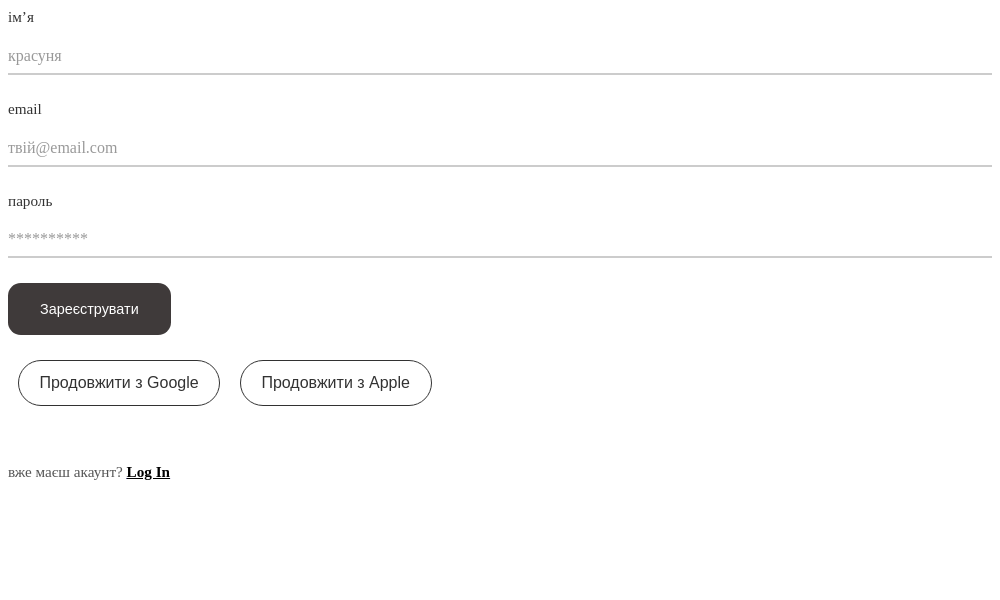
Test: <AuthForm/> › Має показувати помилки валідації при спробі відправки порожньої форми
# Натискаємо кнопку відправки без заповнення полів
Click the button "Зареєструвати": (90, 309) [8,283,171,334]
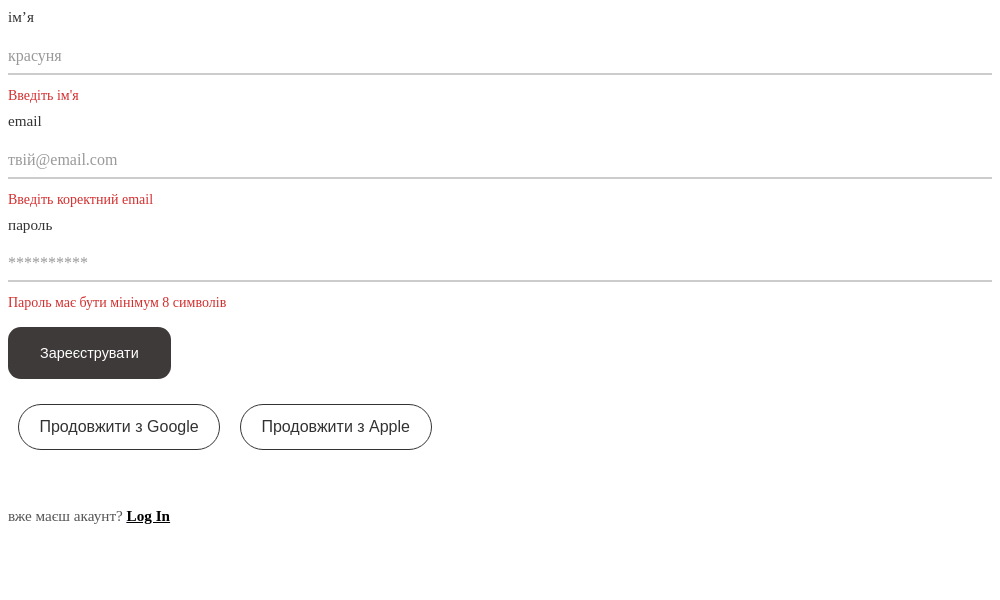
Result: the text "Введіть ім'я" is shown at [8,88,79,103]
Result: the text "Введіть коректний email" is shown at [8,192,153,207]
Result: the text "Пароль має бути мінімум 8 символів" is shown at [8,295,226,310]
